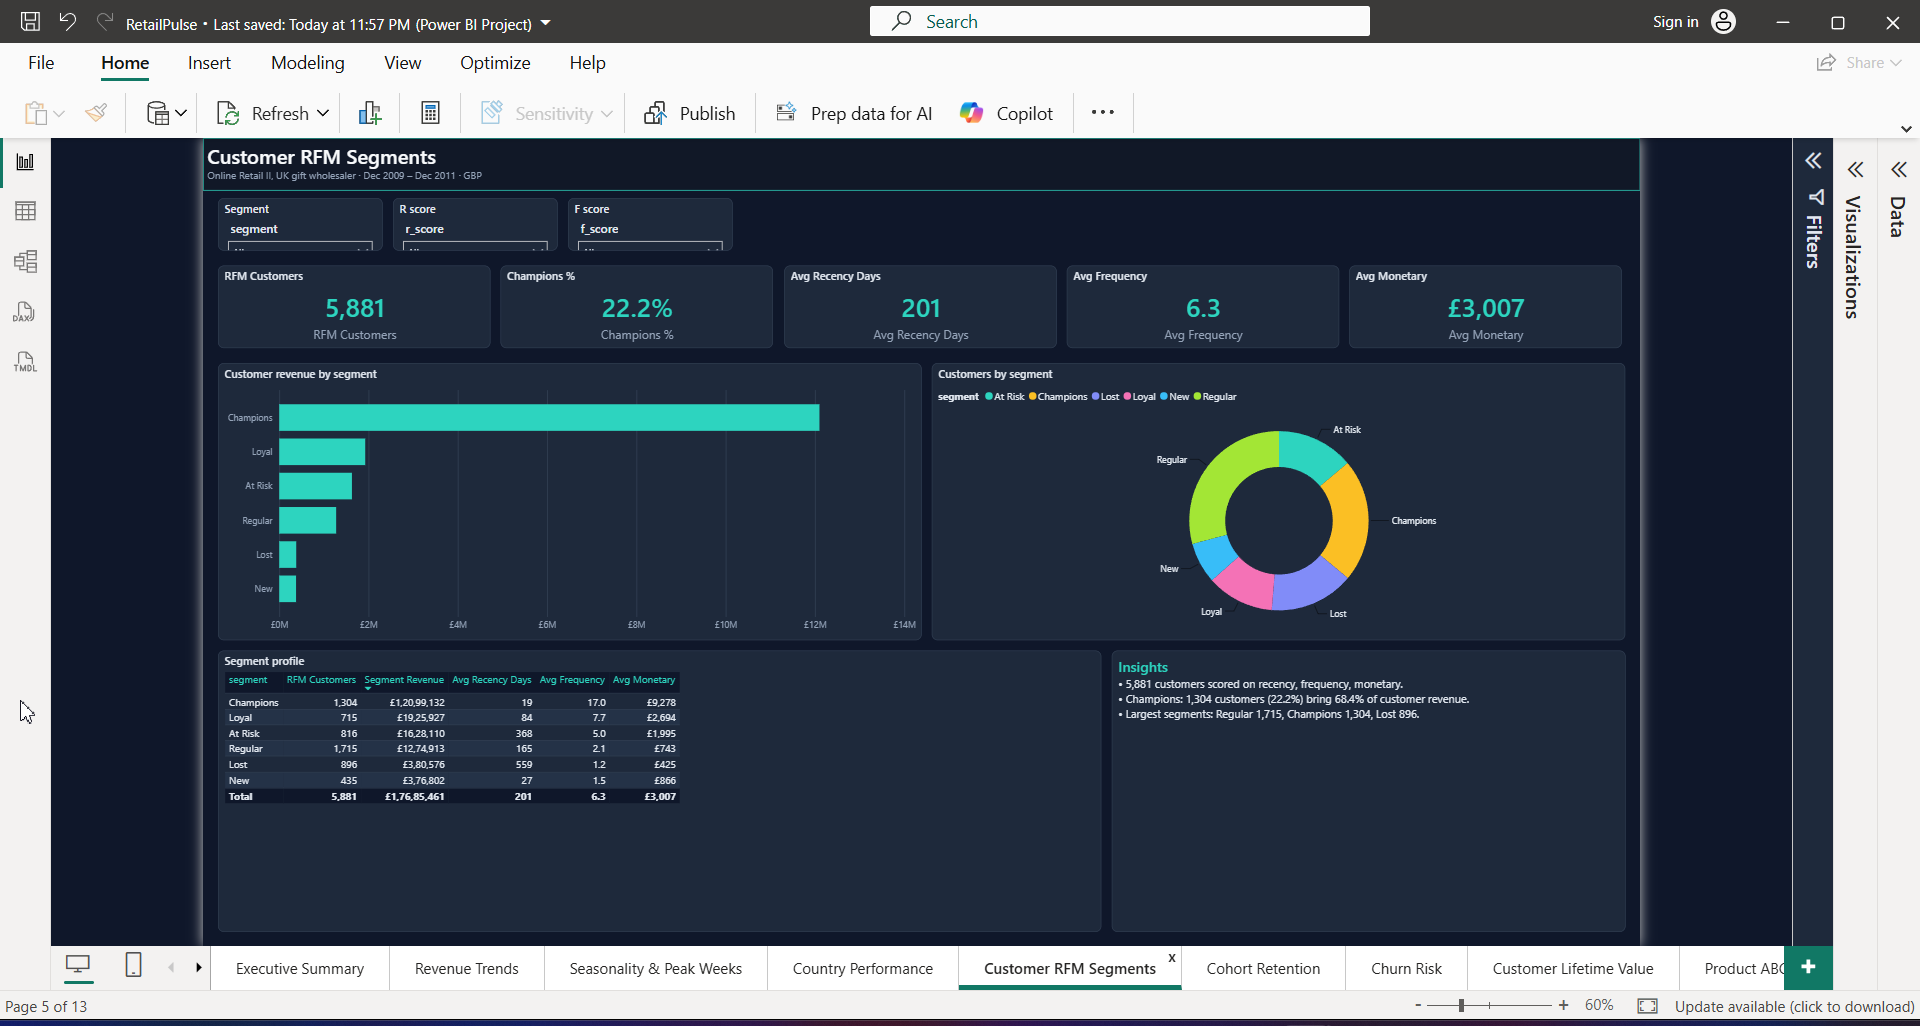

The dashboard page shown, as its layout file describes it:
{"tool":"powerbi","page":{"name":"Customer RFM Segments","canvas":[1920,1080],"ordinal":4},"visuals":[{"type":"textbox","box":[0,0,1920,70],"z":0},{"type":"slicer","title":"Segment","fields":{"Values":["rfm_segments.segment"]},"box":[20,80,220,70],"z":1000},{"type":"slicer","title":"R score","fields":{"Values":["rfm_segments.r_score"]},"box":[254,80,220,70],"z":2000},{"type":"slicer","title":"F score","fields":{"Values":["rfm_segments.f_score"]},"box":[488,80,220,70],"z":3000},{"type":"card","title":"RFM Customers","fields":{"Values":["_Measures.RFM Customers"]},"box":[20,170,364,110],"z":4000},{"type":"card","title":"Champions %","fields":{"Values":["_Measures.Champions %"]},"box":[398,170,364,110],"z":5000},{"type":"card","title":"Avg Recency Days","fields":{"Values":["_Measures.Avg Recency Days"]},"box":[776,170,364,110],"z":6000},{"type":"card","title":"Avg Frequency","fields":{"Values":["_Measures.Avg Frequency"]},"box":[1154,170,364,110],"z":7000},{"type":"card","title":"Avg Monetary","fields":{"Values":["_Measures.Avg Monetary"]},"box":[1532,170,364,110],"z":8000},{"type":"clusteredBarChart","title":"Customer revenue by segment","fields":{"Category":["rfm_segments.segment"],"Y":["_Measures.Segment Revenue"]},"box":[20,300,940,370],"z":9000},{"type":"donutChart","title":"Customers by segment","fields":{"Category":["rfm_segments.segment"],"Y":["_Measures.RFM Customers"]},"box":[974,300,926,370],"z":10000},{"type":"tableEx","title":"Segment profile","fields":{"Values":["rfm_segments.segment","_Measures.RFM Customers","_Measures.Segment Revenue","_Measures.Avg Recency Days","_Measures.Avg Frequency","_Measures.Avg Monetary"]},"box":[20,684,1180,376],"z":11000},{"type":"textbox","box":[1214,684,686,376],"z":12000}]}

Visuals, with their boxes on the page's 1920x1080 design canvas (x1, y1, x2, y2). These are canvas units, not pixel positions in the 1920x1026 screenshot, which may show the page scaled, cropped or inside an application window:
textbox: 0 0 1920 70
"Segment" slicer: 20 80 240 150
"R score" slicer: 254 80 474 150
"F score" slicer: 488 80 708 150
"RFM Customers" card: 20 170 384 280
"Champions %" card: 398 170 762 280
"Avg Recency Days" card: 776 170 1140 280
"Avg Frequency" card: 1154 170 1518 280
"Avg Monetary" card: 1532 170 1896 280
"Customer revenue by segment" clusteredBarChart: 20 300 960 670
"Customers by segment" donutChart: 974 300 1900 670
"Segment profile" tableEx: 20 684 1200 1060
textbox: 1214 684 1900 1060
